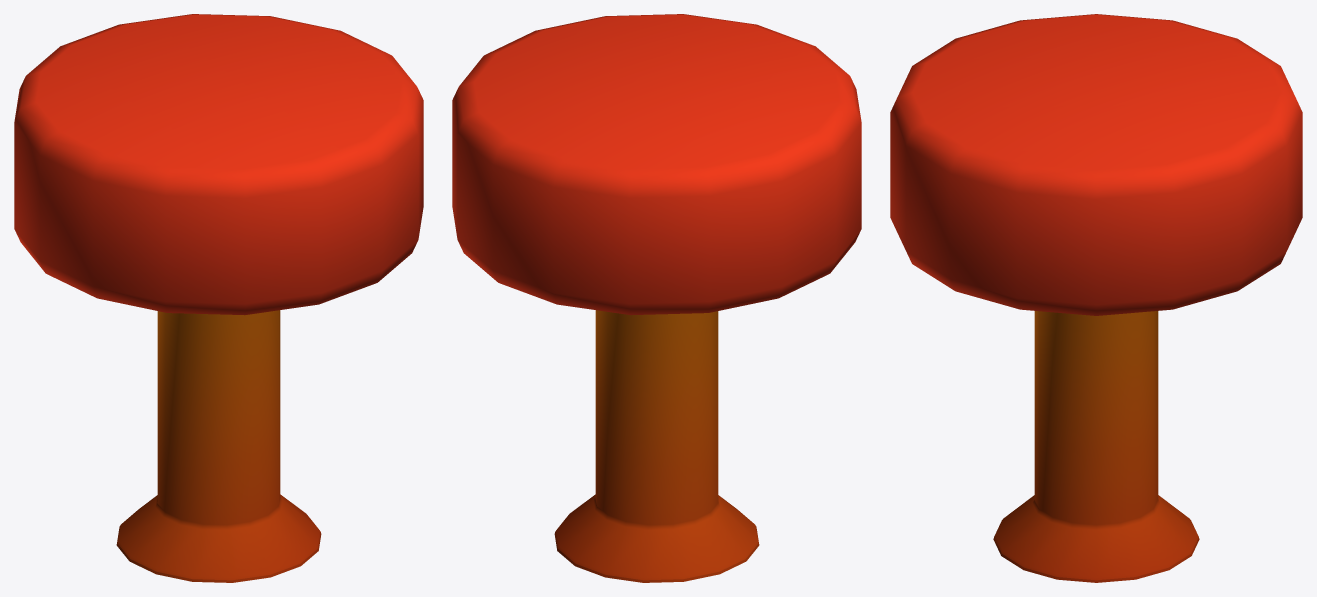
The model's file is SM_chair2.fbx.
3 views of the same model, side by side, from view 1: azimuth 30°, elevation 25°; view 2: azimuth 150°, elevation 25°; view 3: azimuth 270°, elevation 25° (orthographic).
Visible parts, largest first — view 1: Cylinder; view 2: Cylinder; view 3: Cylinder.
Boxes of the visible parts, box(x1,y1,x2,y2) form: Cylinder: box(14, 14, 423, 582); Cylinder: box(452, 14, 861, 582); Cylinder: box(890, 14, 1302, 582).
Size of the model in its own units: 51.56 by 61.67 by 51.56.
